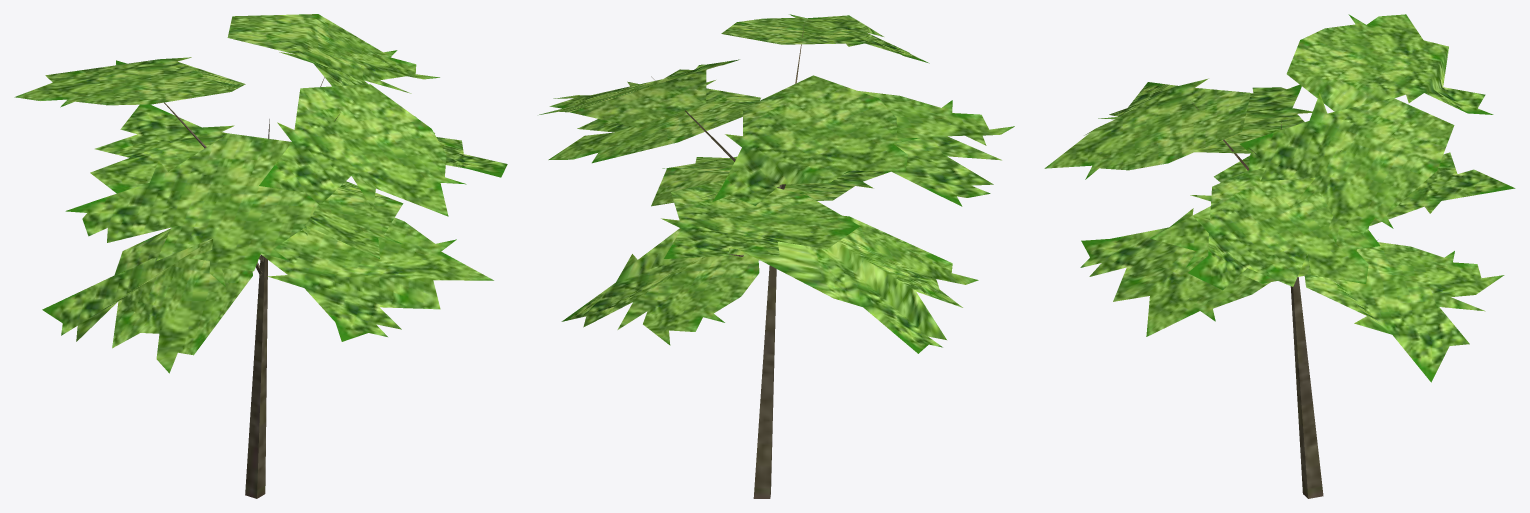
3 renders of one model, left to right at view 1: azimuth 30°, elevation 25°; view 2: azimuth 150°, elevation 25°; view 3: azimuth 270°, elevation 25°, orthographic. The views are drawn at different scales.
Visible parts, largest first — view 1: 6086768113454c447c4a6faa; view 2: 6086768113454c447c4a6faa; view 3: 6086768113454c447c4a6faa.
Boxes of the visible parts, bbox=[...] form: 6086768113454c447c4a6faa: bbox=[14, 14, 507, 498]; 6086768113454c447c4a6faa: bbox=[539, 14, 1014, 498]; 6086768113454c447c4a6faa: bbox=[1044, 14, 1515, 498].
Bounding box in the file's own units: 17.53 × 17.98 × 18.51.
1 material, 1 textured.
